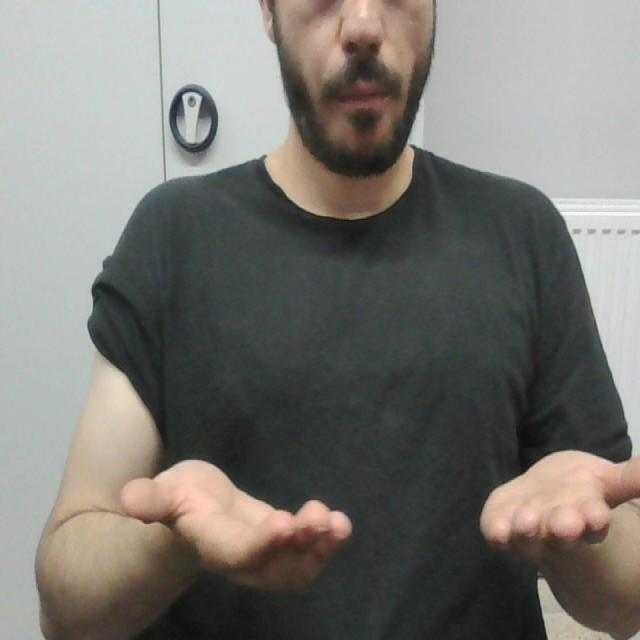Evet: (114, 447, 640, 600)
